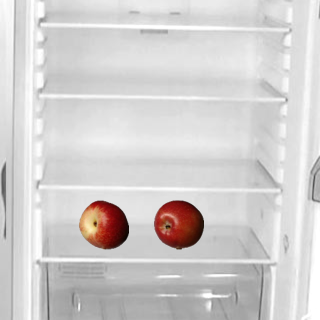Apple Braeburn: (153, 199, 203, 249)
Nectarine: (78, 199, 128, 249)
